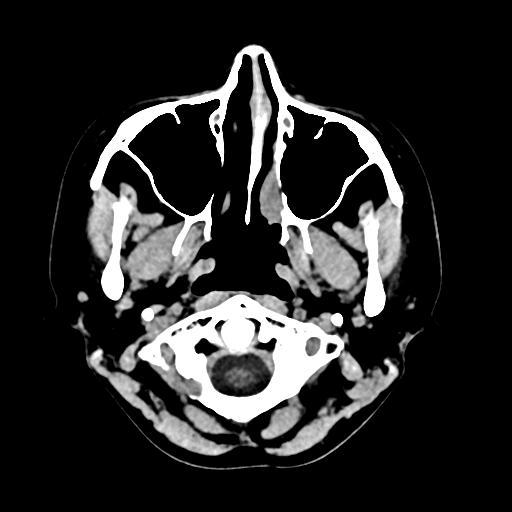Normal_Brain: (60, 23, 452, 478)
